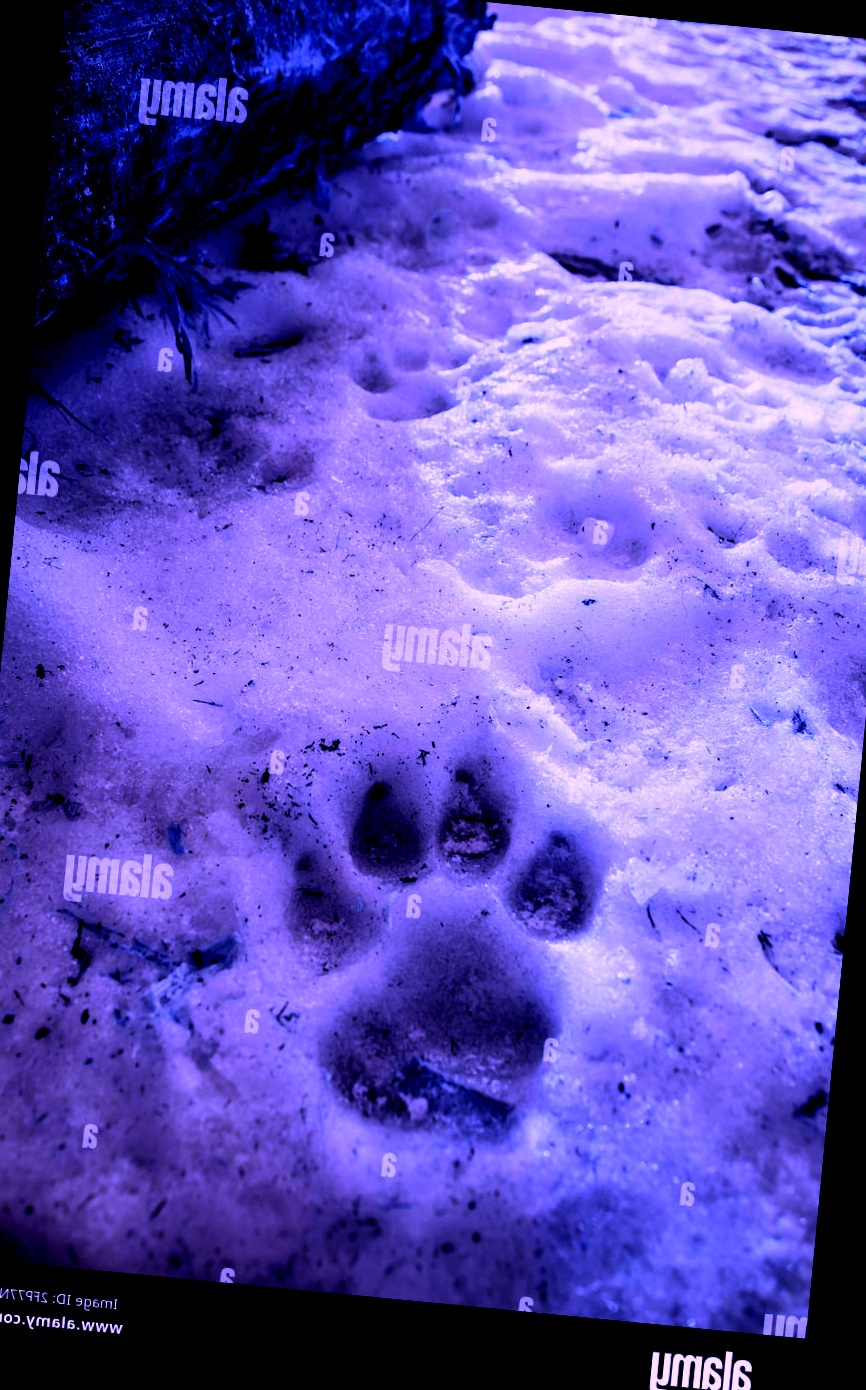loup: (152, 645, 693, 1213)
